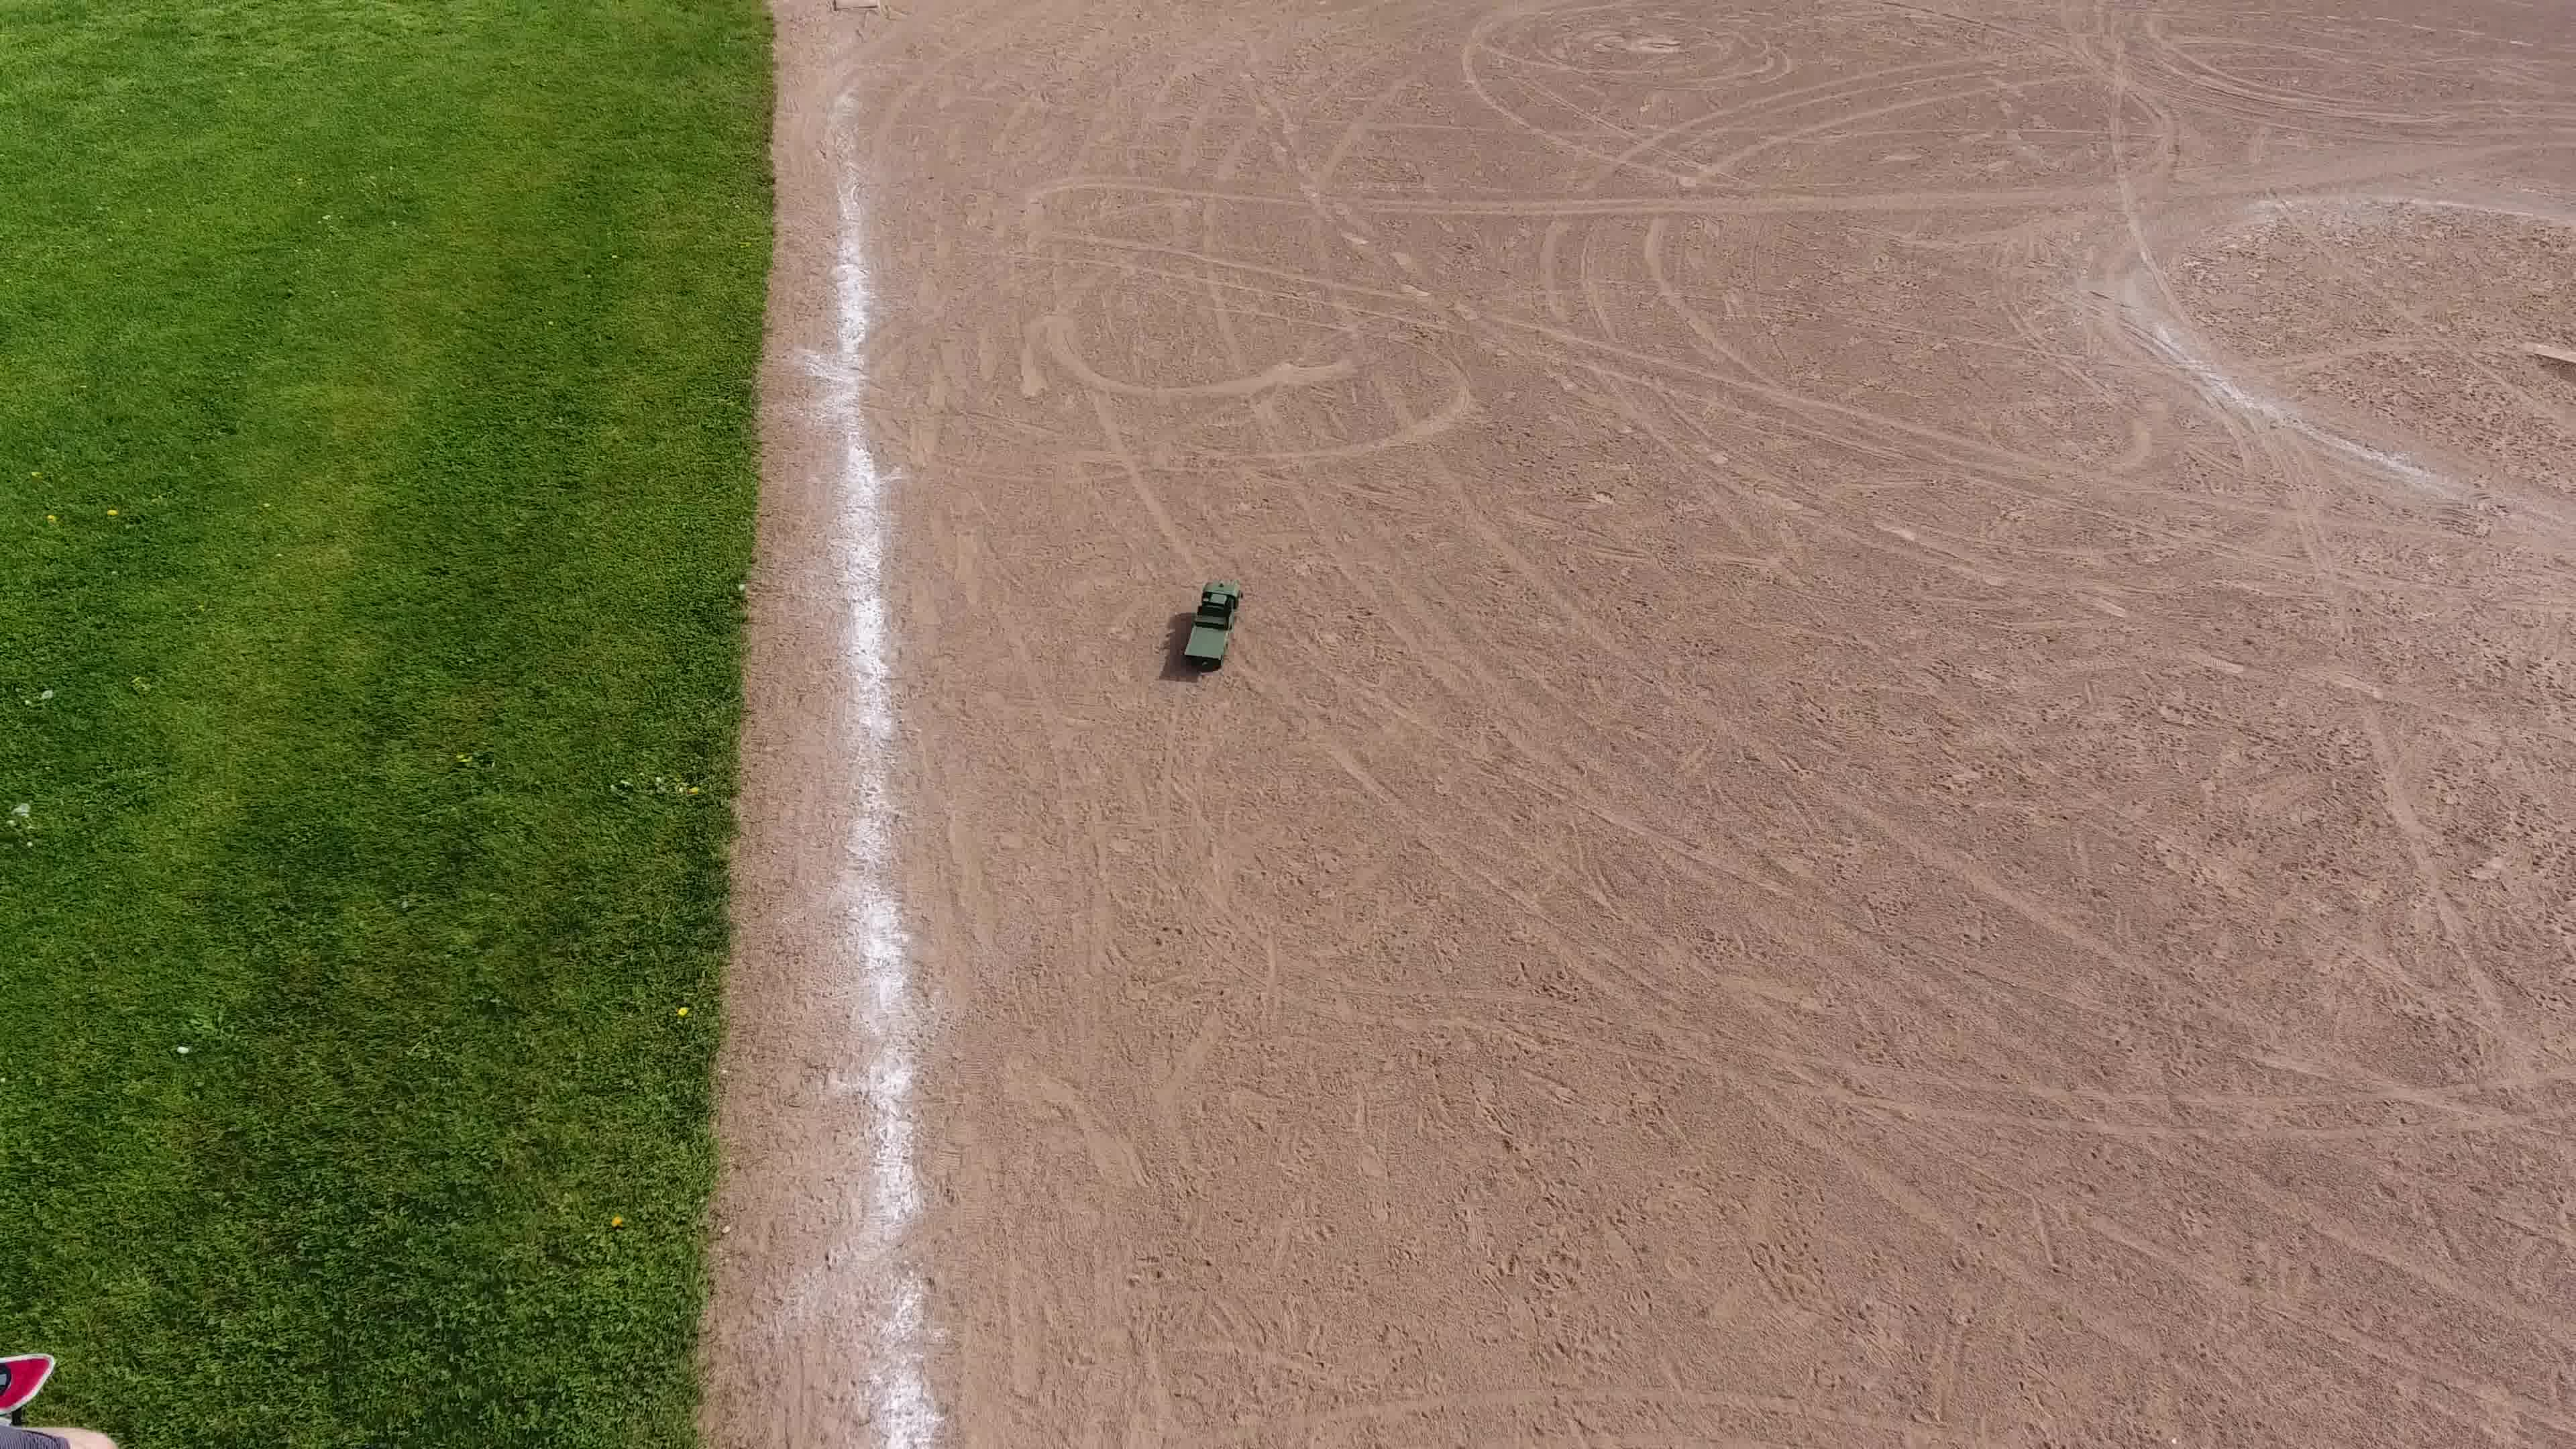transporter9: (1177, 573, 1247, 672)
